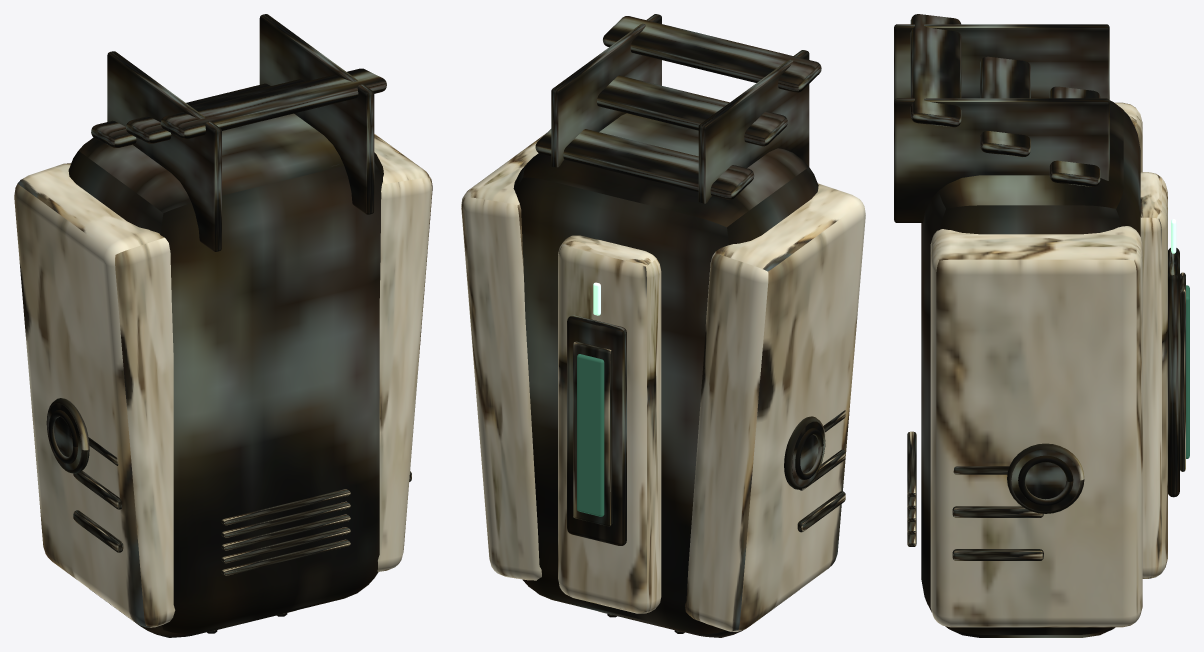
File: body-regulator-astra-v3.glb
The picture shows the model from 3 angles, left to right: view 1: azimuth 30°, elevation 25°; view 2: azimuth 150°, elevation 25°; view 3: azimuth 270°, elevation 25°; orthographic projection. The views are drawn at different scales.
Parts seen in each view (by area): view 1: regulator-steel, regulator-detail-ceramic, regulator-detail-metal, regulator-detail-brass; view 2: regulator-detail-ceramic, regulator-steel, regulator-detail-metal, regulator-detail-brass, regulator-detail-glass; view 3: regulator-detail-ceramic, regulator-detail-metal, regulator-steel, regulator-detail-brass, regulator-detail-glass.
Boxes of the visible parts, x1,y1,x2,y2 form: regulator-steel: (68, 113, 383, 637); regulator-detail-ceramic: (14, 134, 432, 627); regulator-detail-metal: (47, 14, 386, 633); regulator-detail-brass: (46, 398, 411, 631); regulator-detail-ceramic: (461, 133, 865, 631); regulator-steel: (513, 113, 818, 637); regulator-detail-metal: (535, 14, 825, 633); regulator-detail-brass: (573, 341, 845, 632); regulator-detail-glass: (577, 354, 604, 516); regulator-detail-ceramic: (930, 102, 1167, 627); regulator-detail-metal: (894, 14, 1179, 511); regulator-steel: (921, 100, 1140, 637); regulator-detail-brass: (907, 272, 1185, 560); regulator-detail-glass: (1186, 285, 1189, 458).
Bounding box in the file's own units: 1.03 × 1.65 × 0.8095.
6 materials, 4 textured.
